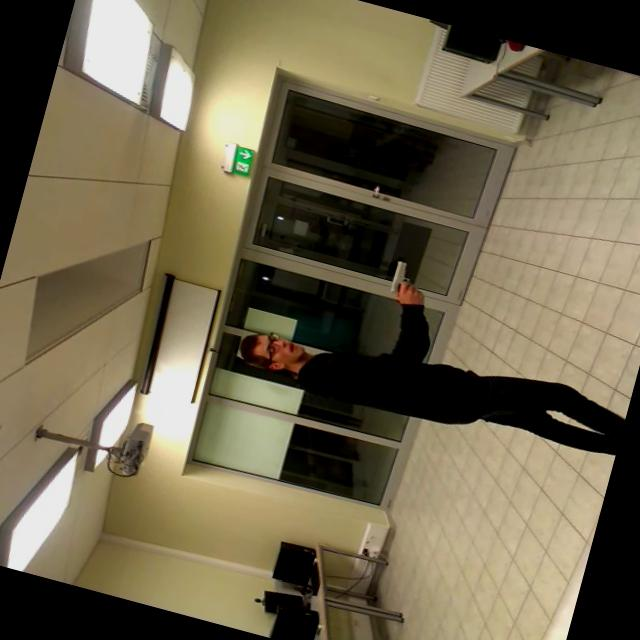handgun: (376, 251, 429, 301)
